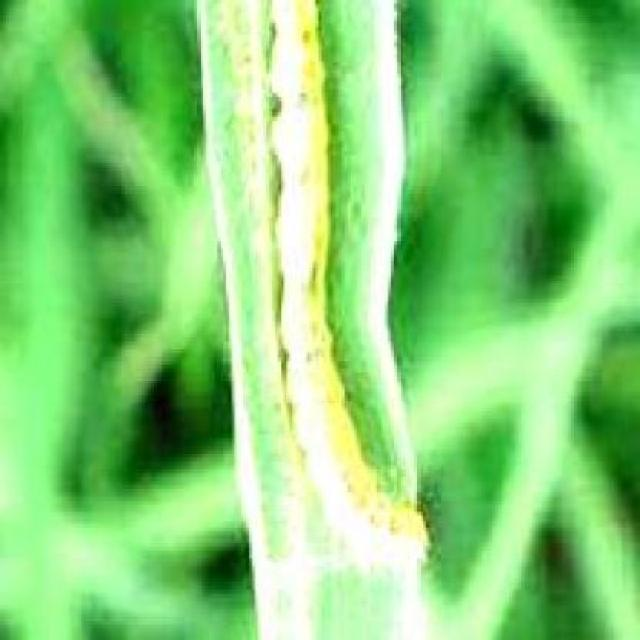leaf-folder: (228, 15, 454, 582)
